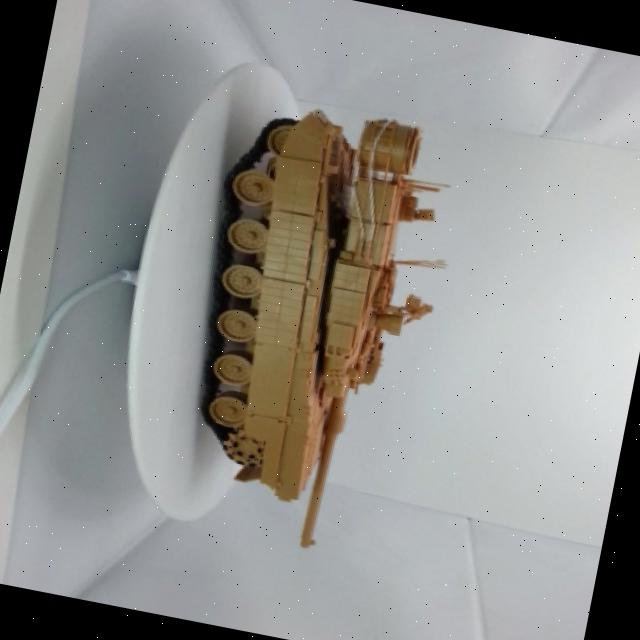korea tank: (142, 76, 489, 589)
